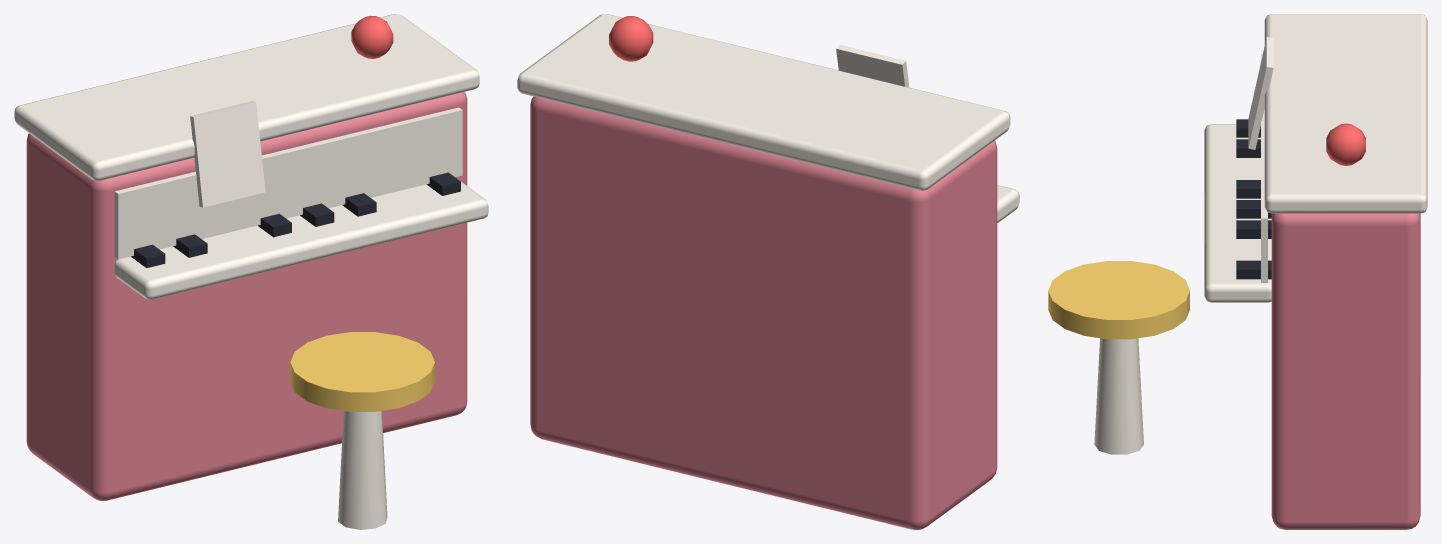
Rendered from kpiano.glb.
3 views of the same model, side by side, from view 1: azimuth 30°, elevation 25°; view 2: azimuth 150°, elevation 25°; view 3: azimuth 270°, elevation 25° (orthographic). The views are drawn at different scales.
Size of the model in its own units: 1.24 by 1.18 by 1.07.
